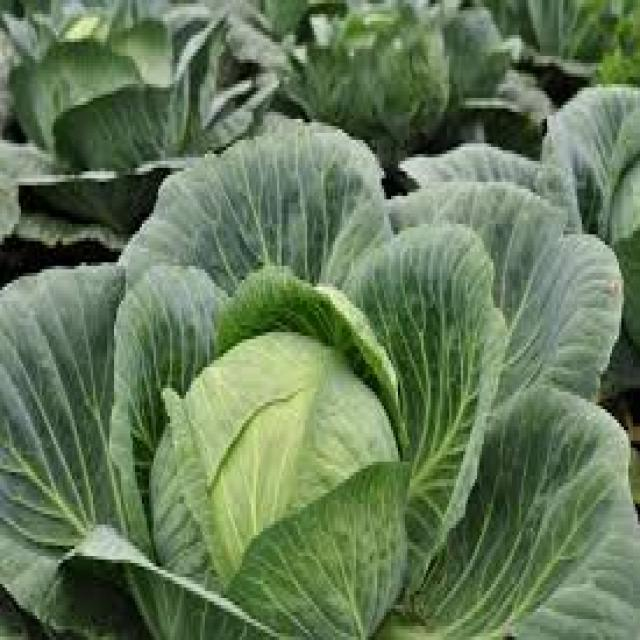cabbage: (67, 210, 575, 640), (282, 0, 544, 252), (1, 0, 296, 221), (516, 54, 640, 332)
